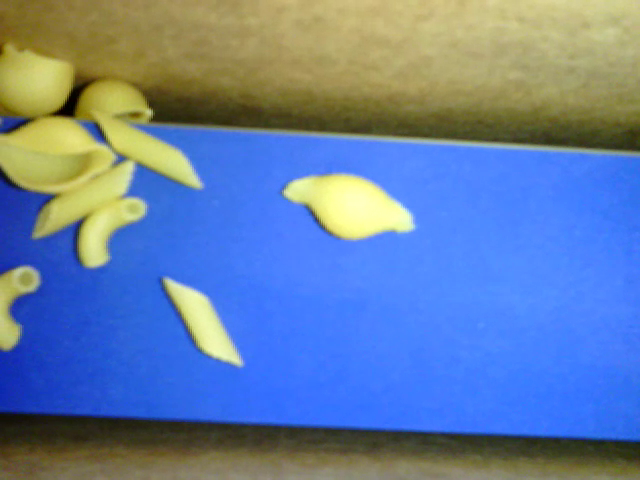elbow: (76, 198, 146, 267), (1, 264, 40, 350)
penne: (93, 112, 203, 190), (34, 160, 135, 235), (162, 279, 243, 367)
shell: (1, 116, 118, 192), (283, 173, 415, 240), (1, 42, 74, 115), (74, 77, 154, 122)
